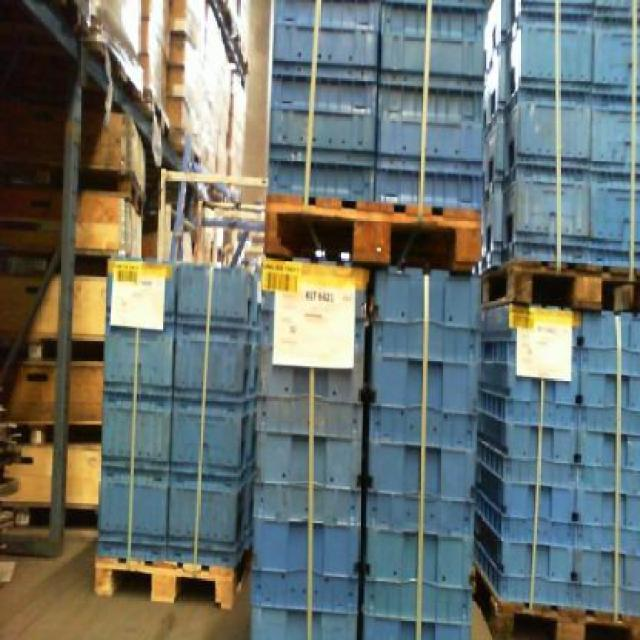ground: (0, 527, 252, 638)
pallet: (265, 189, 490, 277), (471, 563, 638, 638), (3, 148, 150, 229), (90, 546, 253, 609), (481, 254, 638, 317), (0, 244, 123, 282), (0, 327, 106, 371), (207, 0, 250, 87), (1, 495, 98, 531)
